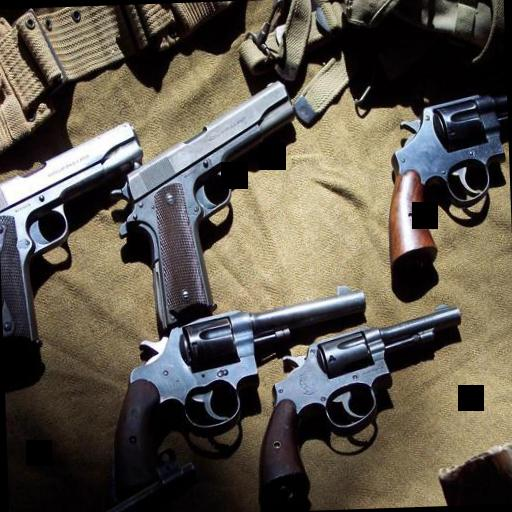Handgun: (98, 268, 372, 496), (106, 69, 302, 339), (246, 298, 468, 505), (0, 118, 149, 360), (376, 86, 512, 286)
